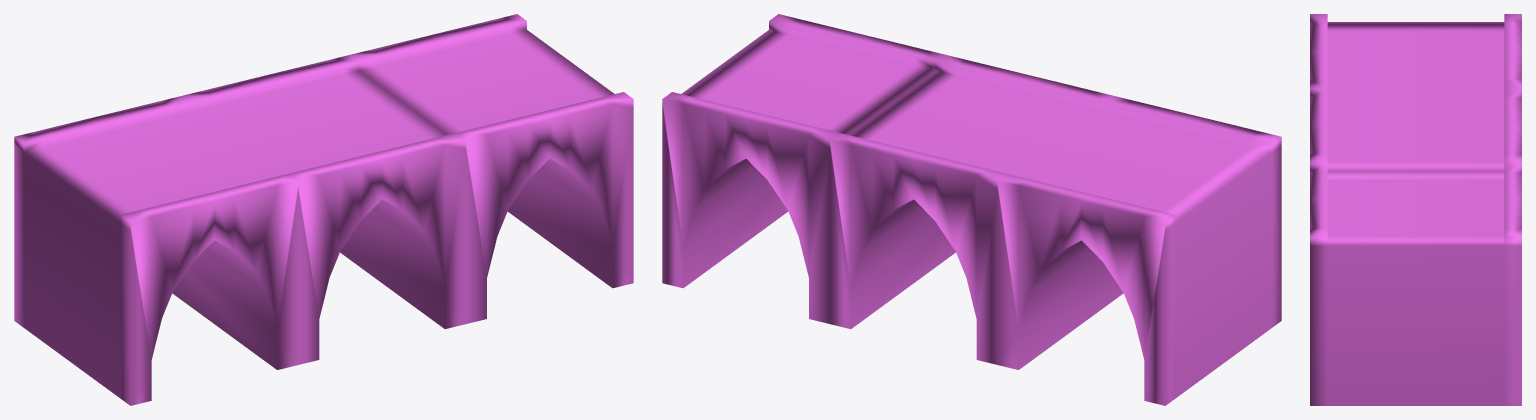
The model's file is RD_Arch_x3.fbx.
The picture shows the model from 3 angles, left to right: view 1: azimuth 30°, elevation 25°; view 2: azimuth 150°, elevation 25°; view 3: azimuth 270°, elevation 25°; orthographic projection. The views are drawn at different scales.
Parts seen in each view (by area): view 1: Mesh; view 2: Mesh; view 3: Mesh.
Boxes of the visible parts, x1,y1,x2,y2 form: Mesh: (14,14,633,405); Mesh: (662,14,1281,405); Mesh: (1310,14,1521,405).
Bounding box in the file's own units: 1200 × 420 × 480.
